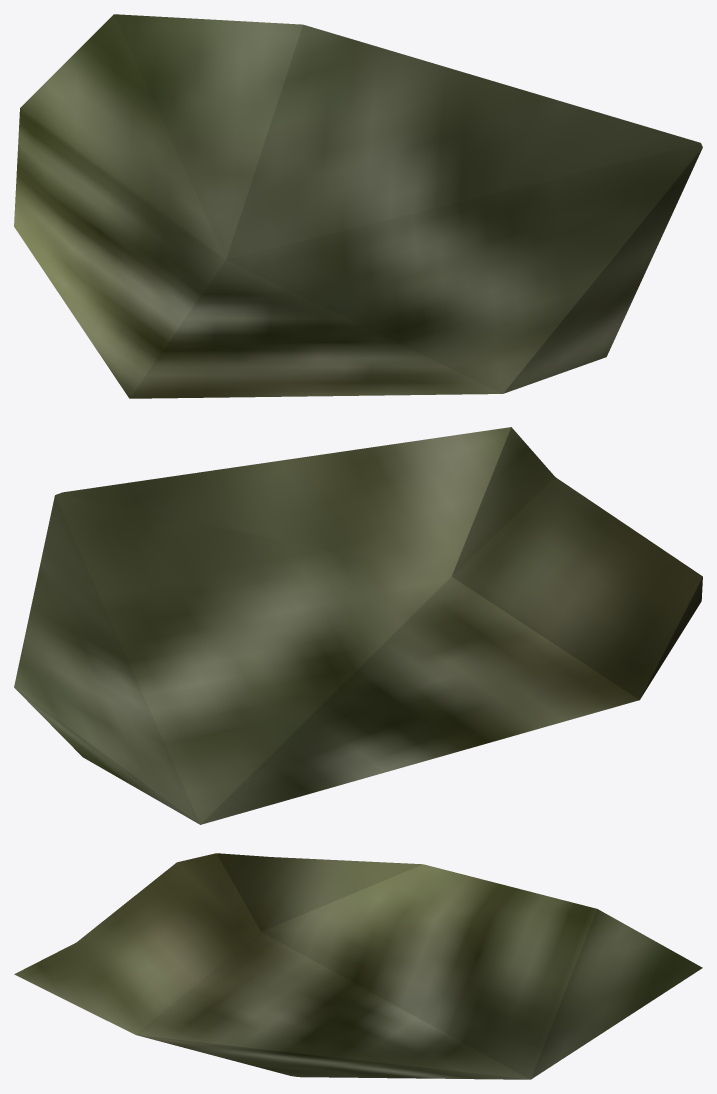
The picture shows the model from 3 angles, top to bottom: view 1: azimuth 30°, elevation 25°; view 2: azimuth 150°, elevation 25°; view 3: azimuth 270°, elevation 25°; orthographic projection. The views are drawn at different scales.
Size of the model in its own units: 0.3257 by 0.0774 by 0.4235.
1 material, 1 textured.
